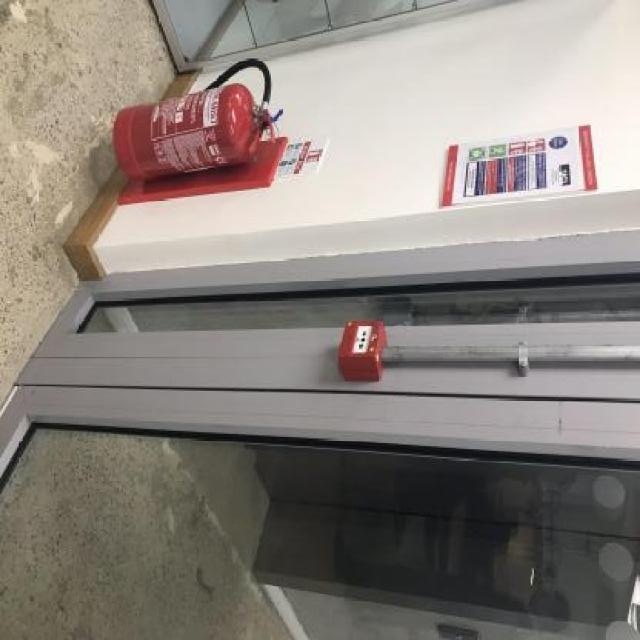fire extinguisher: (110, 61, 276, 184)
